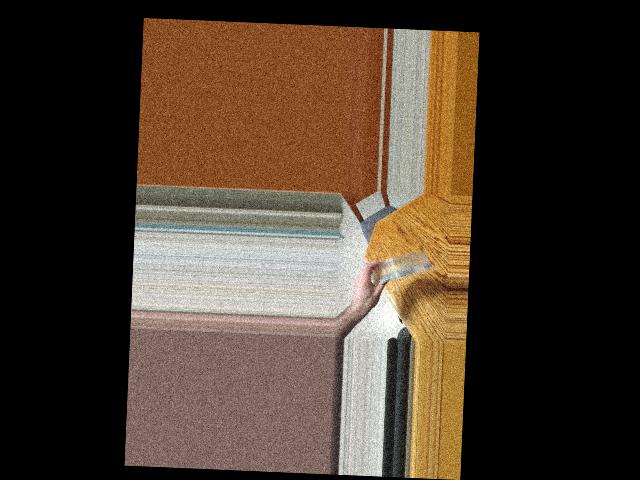cheese: (364, 253, 433, 280)
